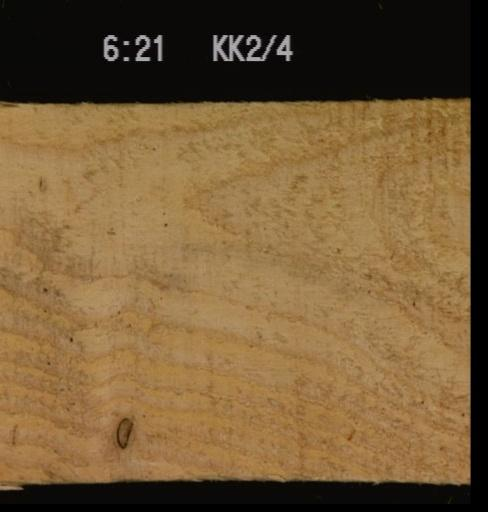dry_knot: (114, 415, 133, 450)
